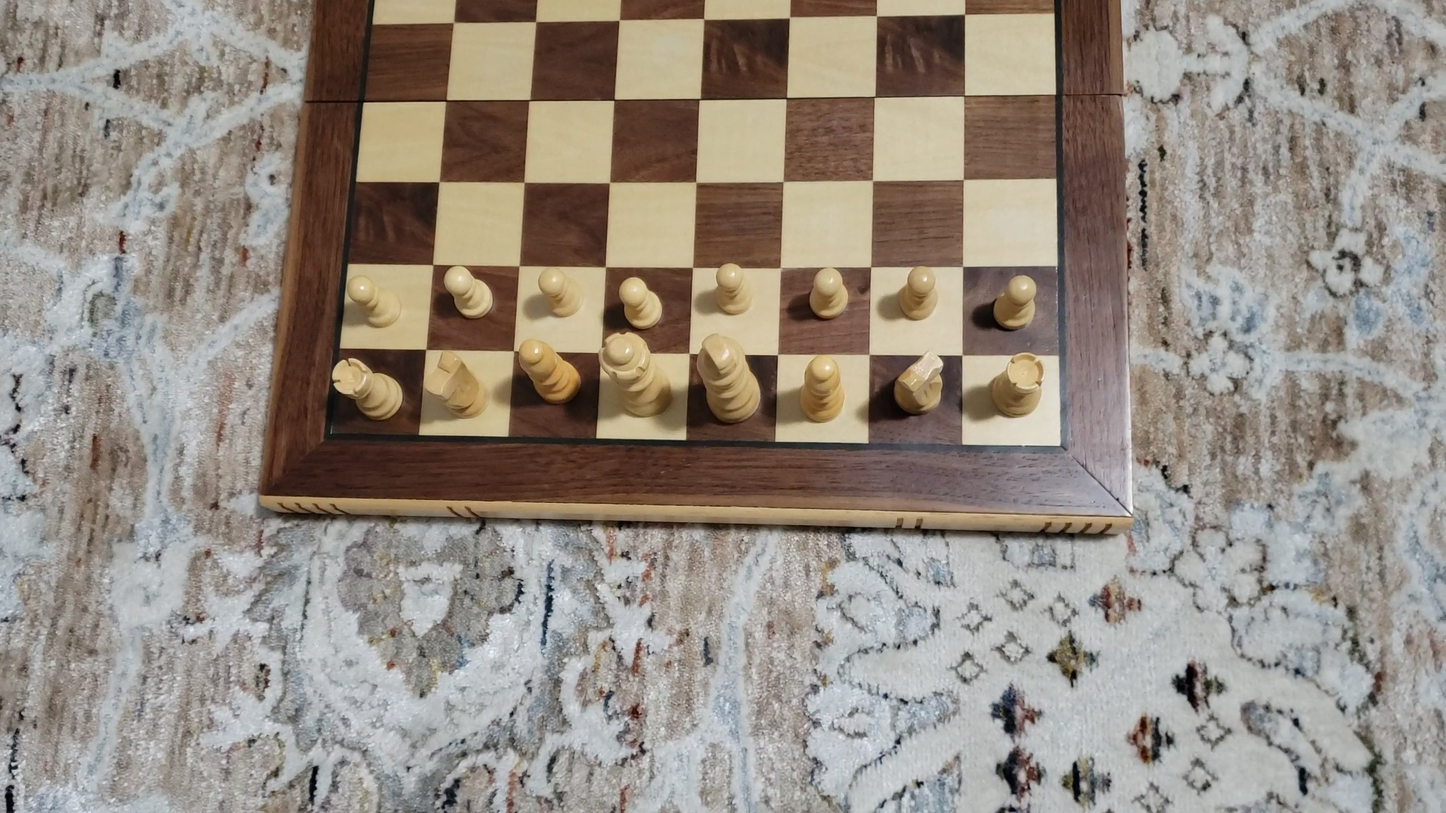white-bishop: (515, 337, 583, 408), (797, 351, 849, 427)
white-king: (690, 331, 767, 427)
white-knight: (429, 348, 489, 421), (888, 350, 946, 421)
white-pawn: (342, 270, 407, 333), (987, 270, 1043, 335), (892, 261, 944, 326), (439, 263, 496, 322), (802, 263, 853, 325), (615, 273, 667, 333), (709, 257, 757, 320), (532, 265, 584, 322)
white-queen: (595, 331, 676, 422)
white-rook: (333, 356, 404, 423), (987, 349, 1047, 421)
